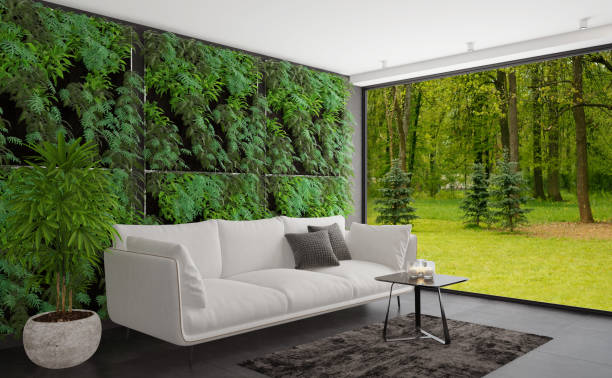large plant: (6, 132, 120, 370)
sofa: (104, 218, 426, 372)
table: (374, 269, 468, 347)
